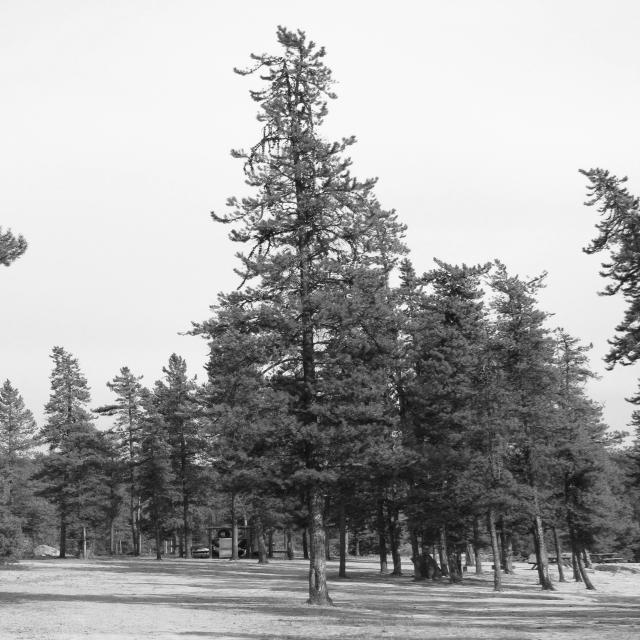Pinus contorta var: (199, 17, 389, 602), (29, 336, 112, 564)
